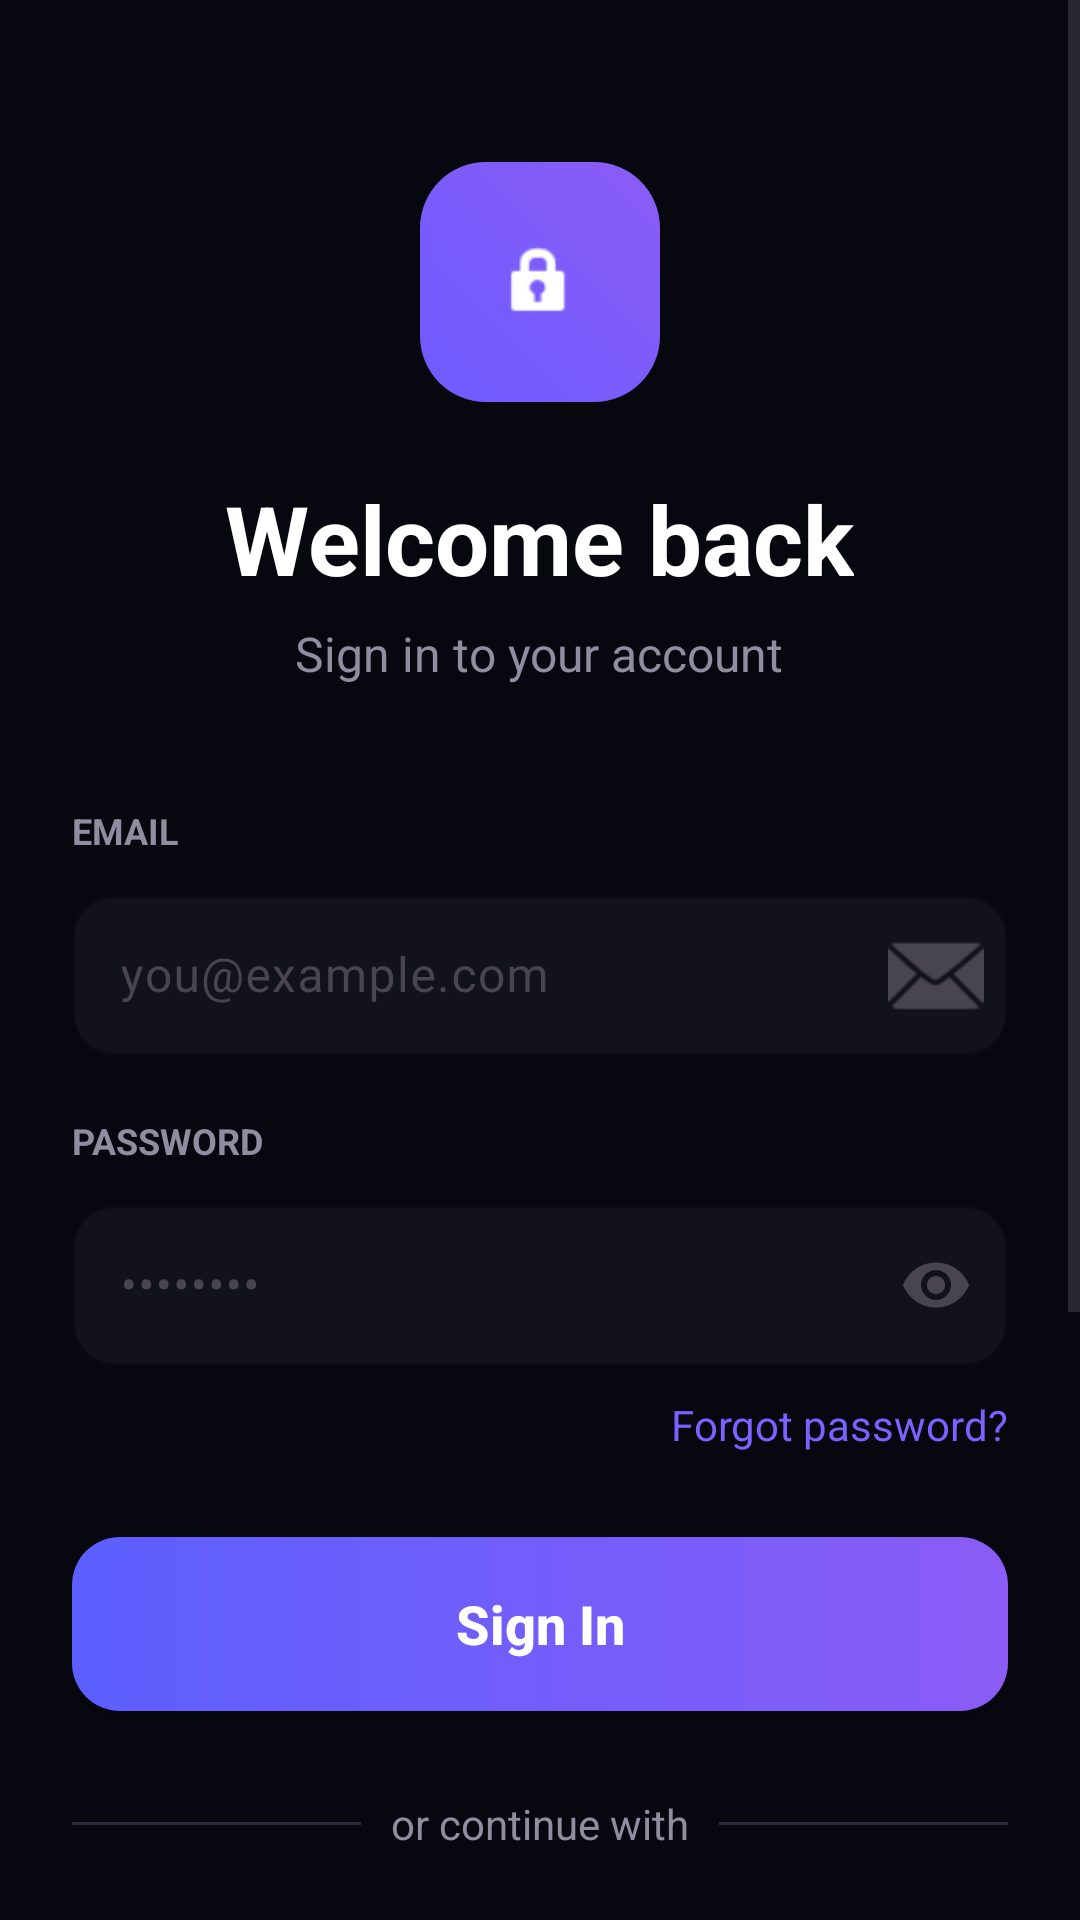

Screen size 1080px x 1920px. Icon name, then its center in pixels as (x,y):
lock idle: (538,279)
